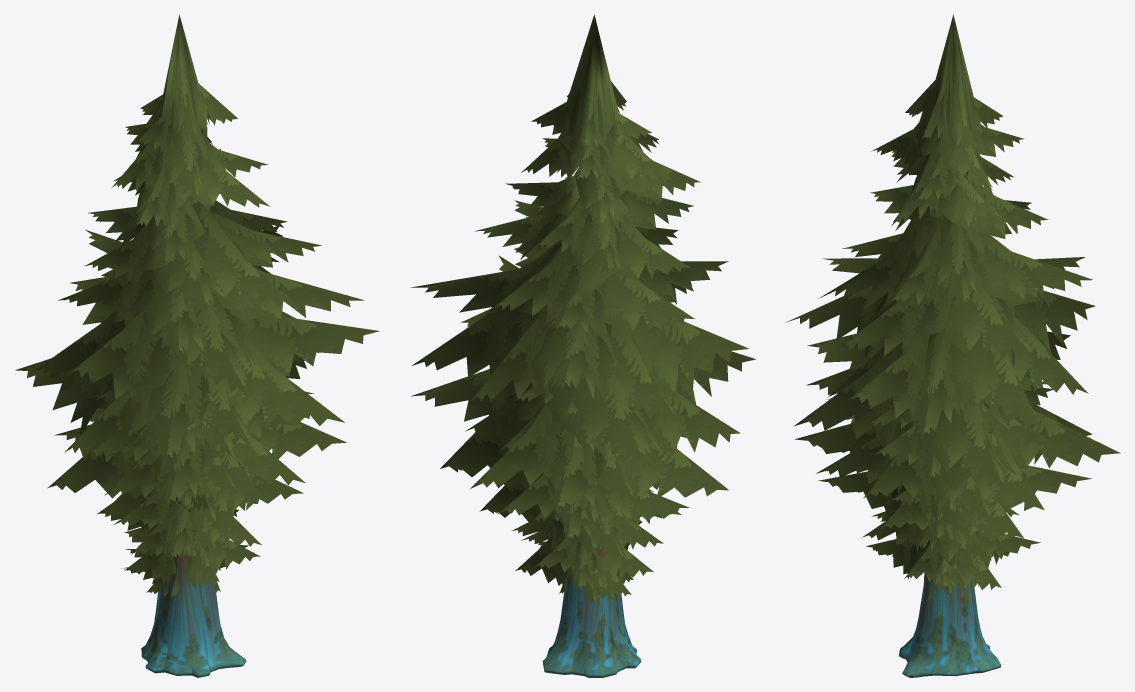
File: MLM_Tree_Fir_Levels_fbx.fbx
3 views of the same model, side by side, from view 1: azimuth 30°, elevation 25°; view 2: azimuth 150°, elevation 25°; view 3: azimuth 270°, elevation 25° (orthographic).
Parts seen in each view (by area): view 1: MLM_Tree_Fir_Canopy_Level3_LOD0, MLM_Tree_Fir_Level2_LOD0, MLM_Tree_Fir_Level1_LOD0, MLM_Tree_Fir_Trunk_Level3_LOD0; view 2: MLM_Tree_Fir_Canopy_Level3_LOD0, MLM_Tree_Fir_Level2_LOD0, MLM_Tree_Fir_Level1_LOD0, MLM_Tree_Fir_Trunk_Level3_LOD0; view 3: MLM_Tree_Fir_Canopy_Level3_LOD0, MLM_Tree_Fir_Level2_LOD0, MLM_Tree_Fir_Trunk_Level3_LOD0, MLM_Tree_Fir_Level1_LOD0.
Boxes of the visible parts, x1,y1,x2,y2 form: MLM_Tree_Fir_Canopy_Level3_LOD0: [15, 14, 379, 567]; MLM_Tree_Fir_Level2_LOD0: [54, 389, 314, 584]; MLM_Tree_Fir_Level1_LOD0: [98, 474, 267, 596]; MLM_Tree_Fir_Trunk_Level3_LOD0: [141, 544, 246, 677]; MLM_Tree_Fir_Canopy_Level3_LOD0: [410, 14, 755, 589]; MLM_Tree_Fir_Level2_LOD0: [461, 379, 686, 600]; MLM_Tree_Fir_Level1_LOD0: [512, 489, 689, 602]; MLM_Tree_Fir_Trunk_Level3_LOD0: [542, 542, 641, 677]; MLM_Tree_Fir_Canopy_Level3_LOD0: [786, 14, 1120, 587]; MLM_Tree_Fir_Level2_LOD0: [816, 363, 1091, 584]; MLM_Tree_Fir_Trunk_Level3_LOD0: [899, 539, 1001, 677]; MLM_Tree_Fir_Level1_LOD0: [862, 489, 1040, 602].
Size of what is drawn, in the model's own units: 1172 by 2473 by 1171.
